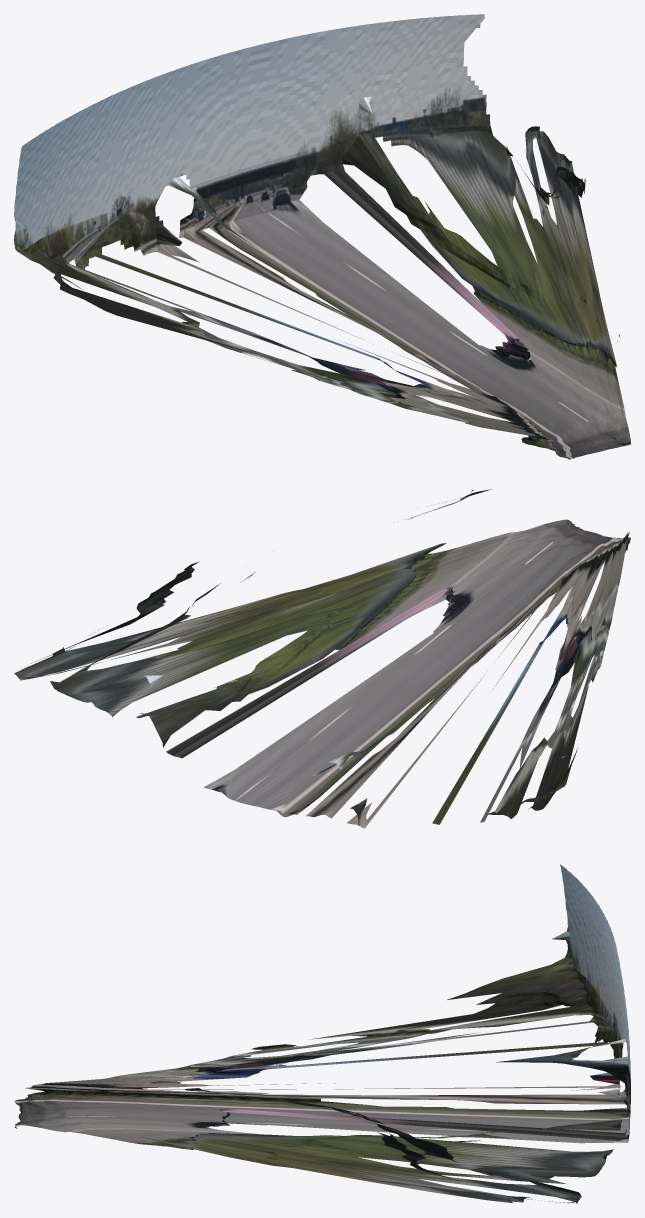
The picture shows the model from 3 angles, top to bottom: view 1: azimuth 30°, elevation 25°; view 2: azimuth 150°, elevation 25°; view 3: azimuth 270°, elevation 25°; orthographic projection. The views are drawn at different scales.
Parts seen in each view (by area): view 1: defaultobject; view 2: defaultobject; view 3: defaultobject.
Part boxes in pixels (<box>): defaultobject: <box>14,14,630,459</box>; defaultobject: <box>14,489,630,828</box>; defaultobject: <box>14,864,630,1203</box>.
Bounding box in the file's own units: 39.78 × 12.84 × 44.67.
1 material, 1 textured.
